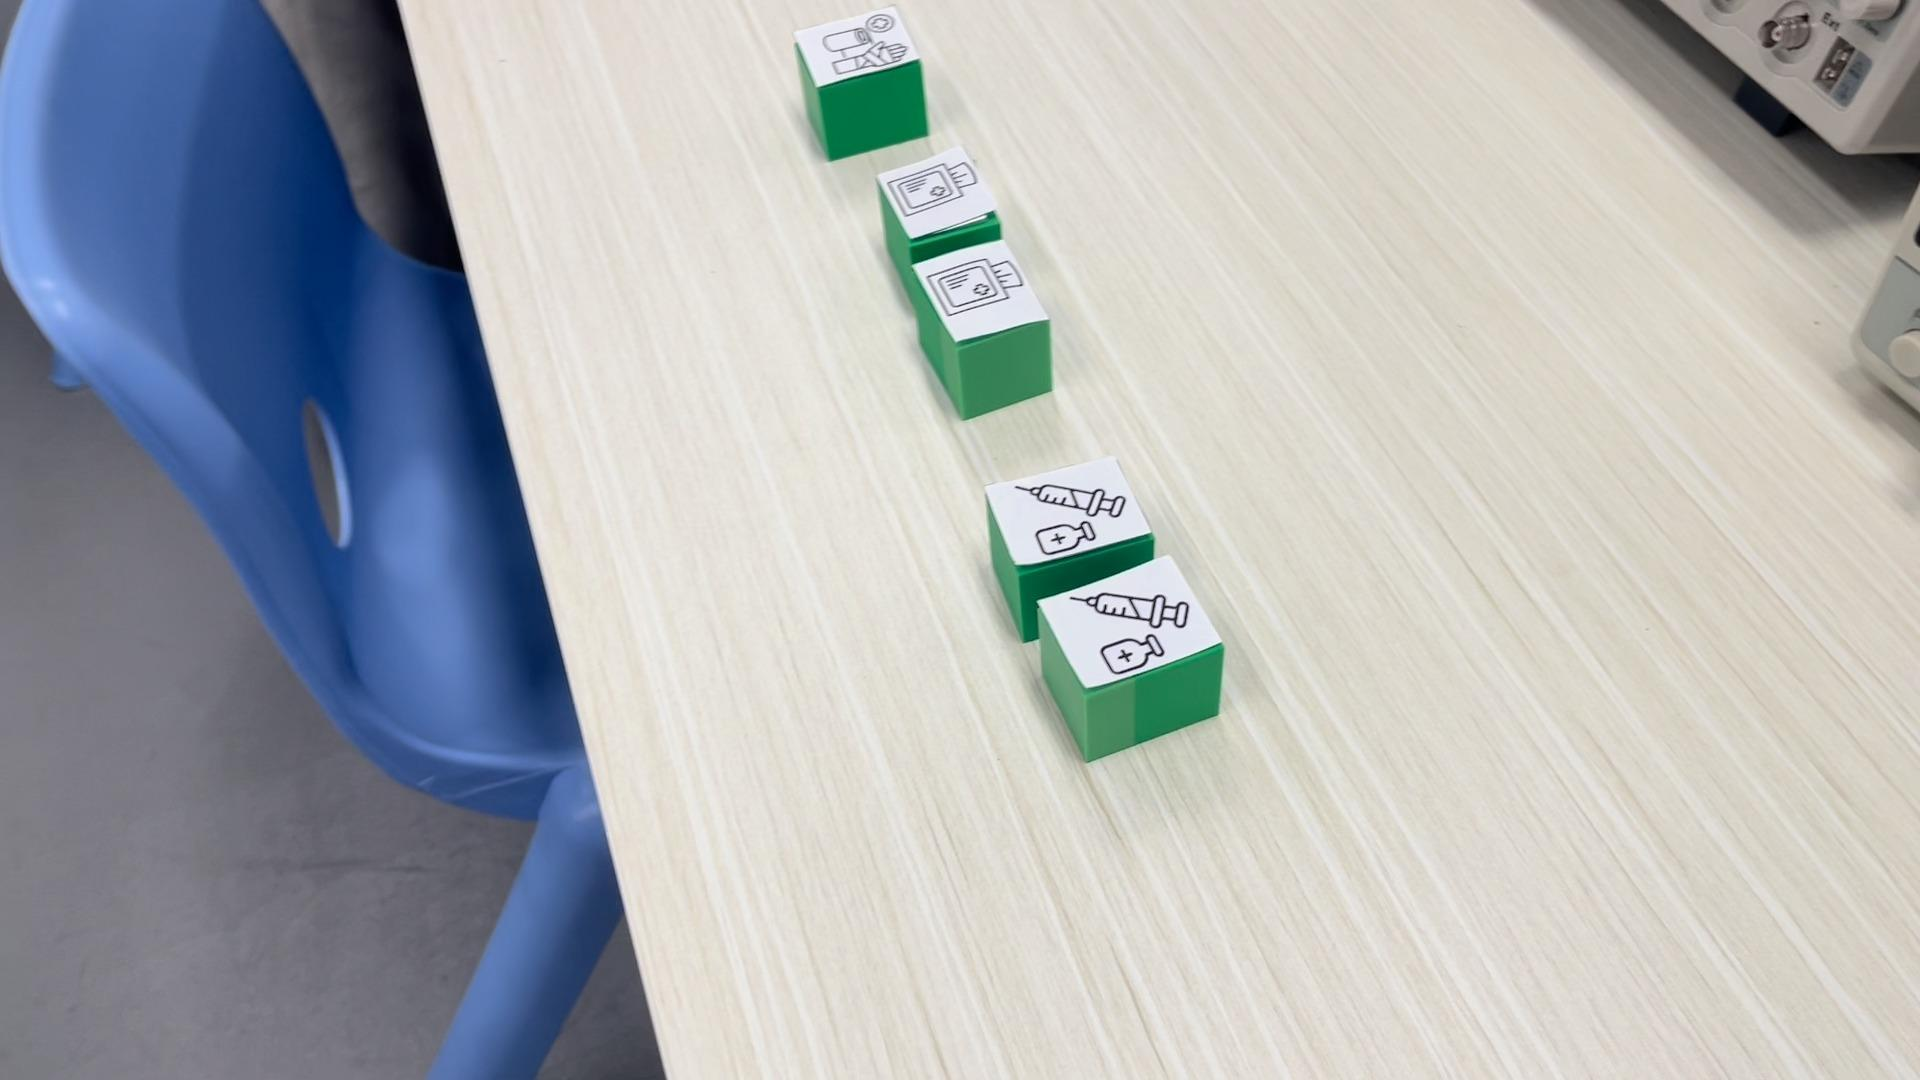Bandages: (790, 3, 927, 161)
Gauze: (911, 239, 1054, 422), (878, 144, 1001, 252)
antiseptic cream: (1036, 554, 1225, 761), (985, 455, 1155, 567)
